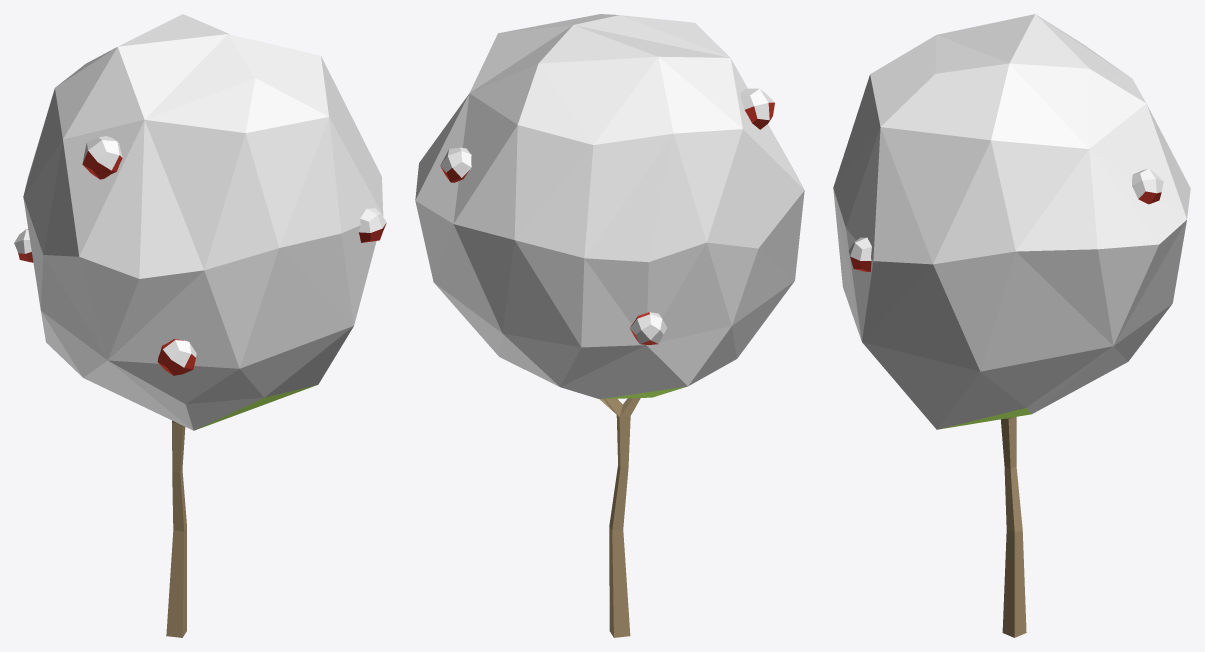
File: Apple_Tree_Apples_s_Snow_BT_01.fbx
3 renders of one model, left to right at view 1: azimuth 30°, elevation 25°; view 2: azimuth 150°, elevation 25°; view 3: azimuth 270°, elevation 25°, orthographic.
Parts seen in each view (by area): view 1: Apple_Tree_Apples_s_Snow_BT_01; view 2: Apple_Tree_Apples_s_Snow_BT_01; view 3: Apple_Tree_Apples_s_Snow_BT_01.
Part boxes in pixels (x1,y1,x2,y2): Apple_Tree_Apples_s_Snow_BT_01: (14,14,386,637); Apple_Tree_Apples_s_Snow_BT_01: (415,14,804,637); Apple_Tree_Apples_s_Snow_BT_01: (833,14,1190,637).
Size of the model in its own units: 178 by 329 by 179.
